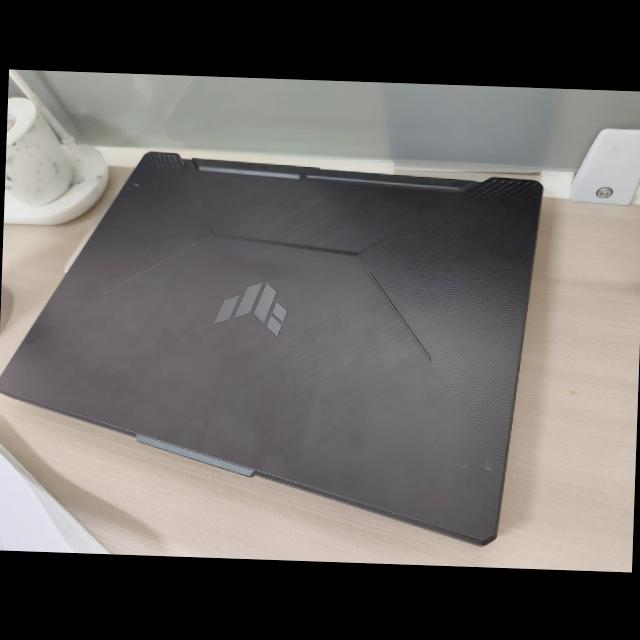laptop: (0, 139, 556, 554)
